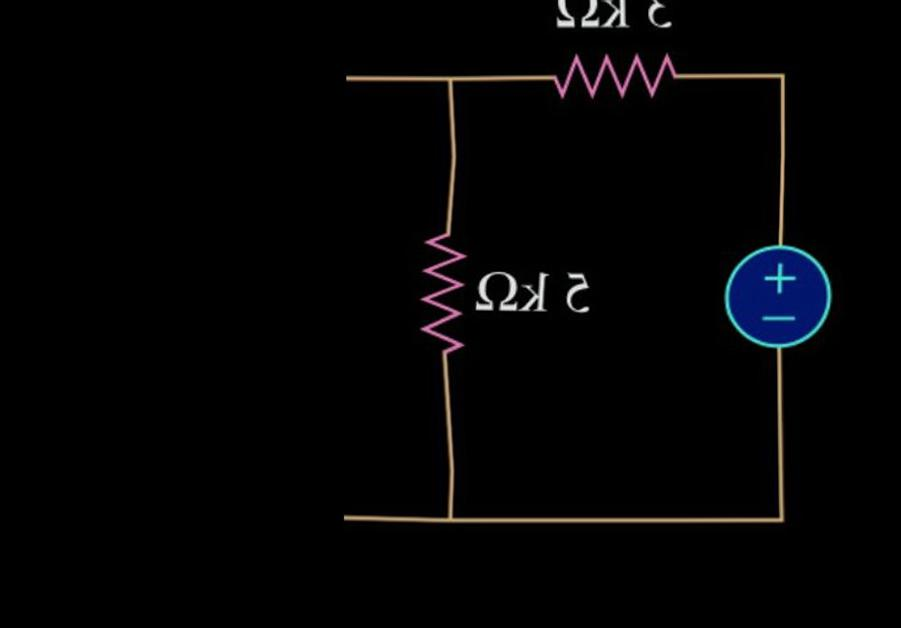Battery: (702, 223, 847, 367)
